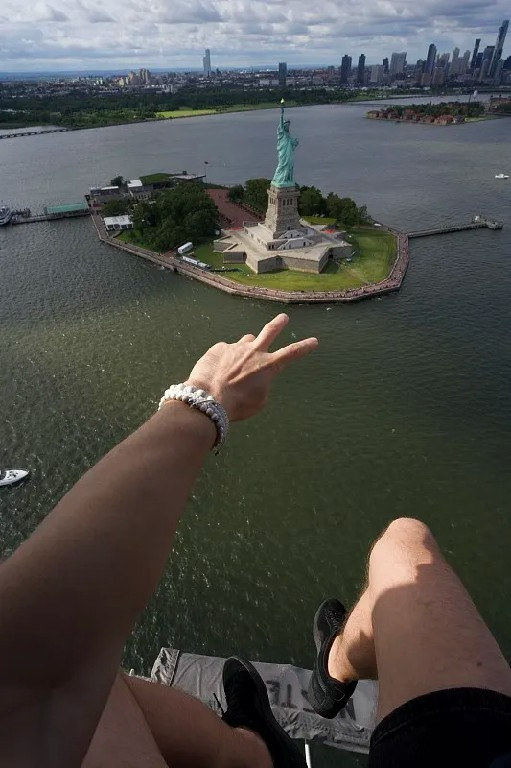SL: (265, 96, 300, 232)
